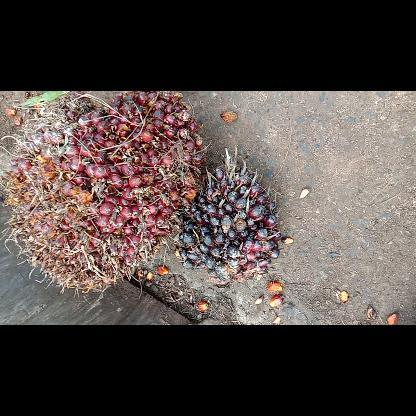TBS abnormal: (176, 144, 282, 284)
TBS masak: (3, 92, 204, 294)
